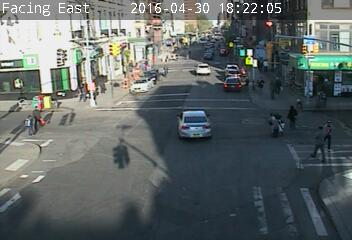neg: (131, 122, 176, 183), (38, 168, 69, 210), (57, 3, 85, 41), (110, 137, 135, 170), (134, 8, 152, 32), (300, 39, 317, 61), (147, 33, 163, 55), (184, 79, 199, 99), (96, 114, 106, 127), (237, 35, 244, 44)
